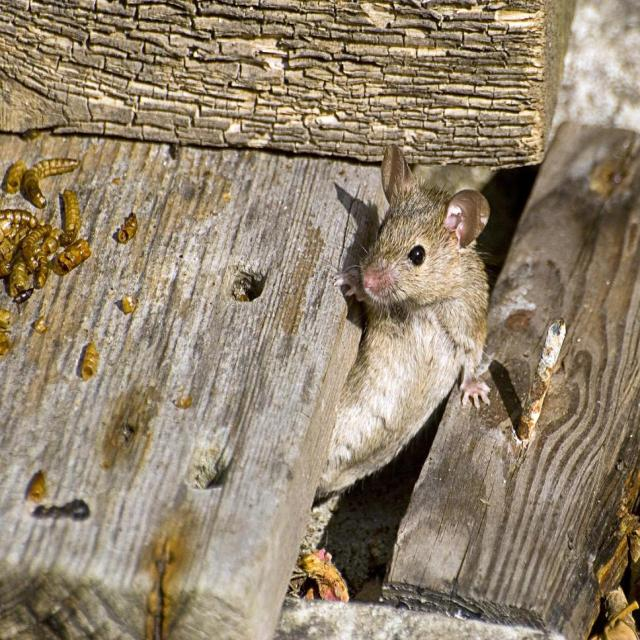rat: (292, 142, 506, 520)
